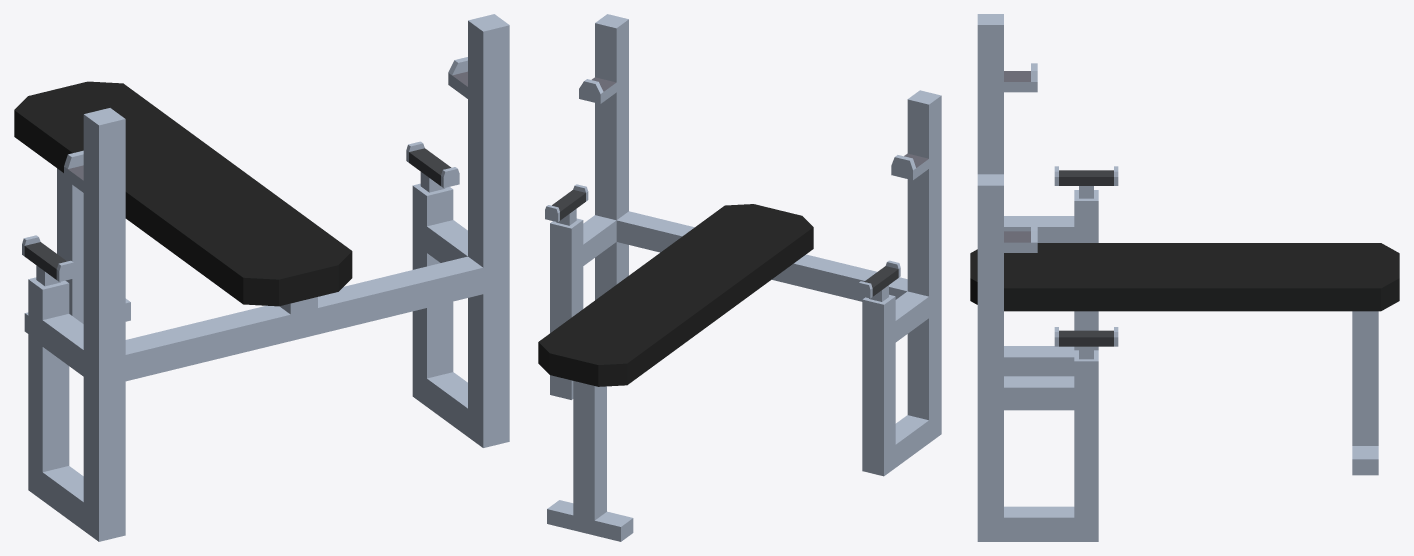
File: Machine.fbx
3 renders of one model, left to right at view 1: azimuth 30°, elevation 25°; view 2: azimuth 150°, elevation 25°; view 3: azimuth 270°, elevation 25°, orthographic. The views are drawn at different scales.
Parts seen in each view (by area): view 1: machine; view 2: machine; view 3: machine.
Boxes of the visible parts, x1=… form: machine: x1=14, y1=14, x2=509, y2=541; machine: x1=538, y1=14, x2=941, y2=541; machine: x1=970, y1=14, x2=1399, y2=541.
Bounding box in the file's own units: 119 × 115 × 126.
